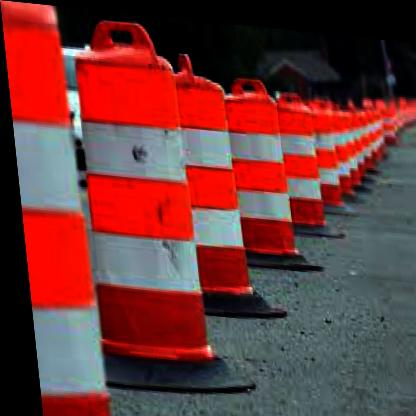obstacle: (70, 18, 210, 368), (217, 69, 302, 264)
